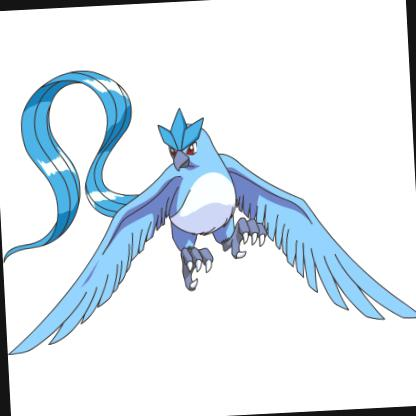Arktos: (0, 14, 413, 415)
